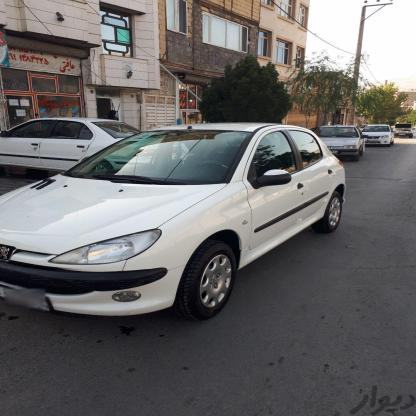Car: (0, 122, 341, 330), (0, 117, 146, 184), (304, 122, 368, 159), (354, 123, 400, 150)
